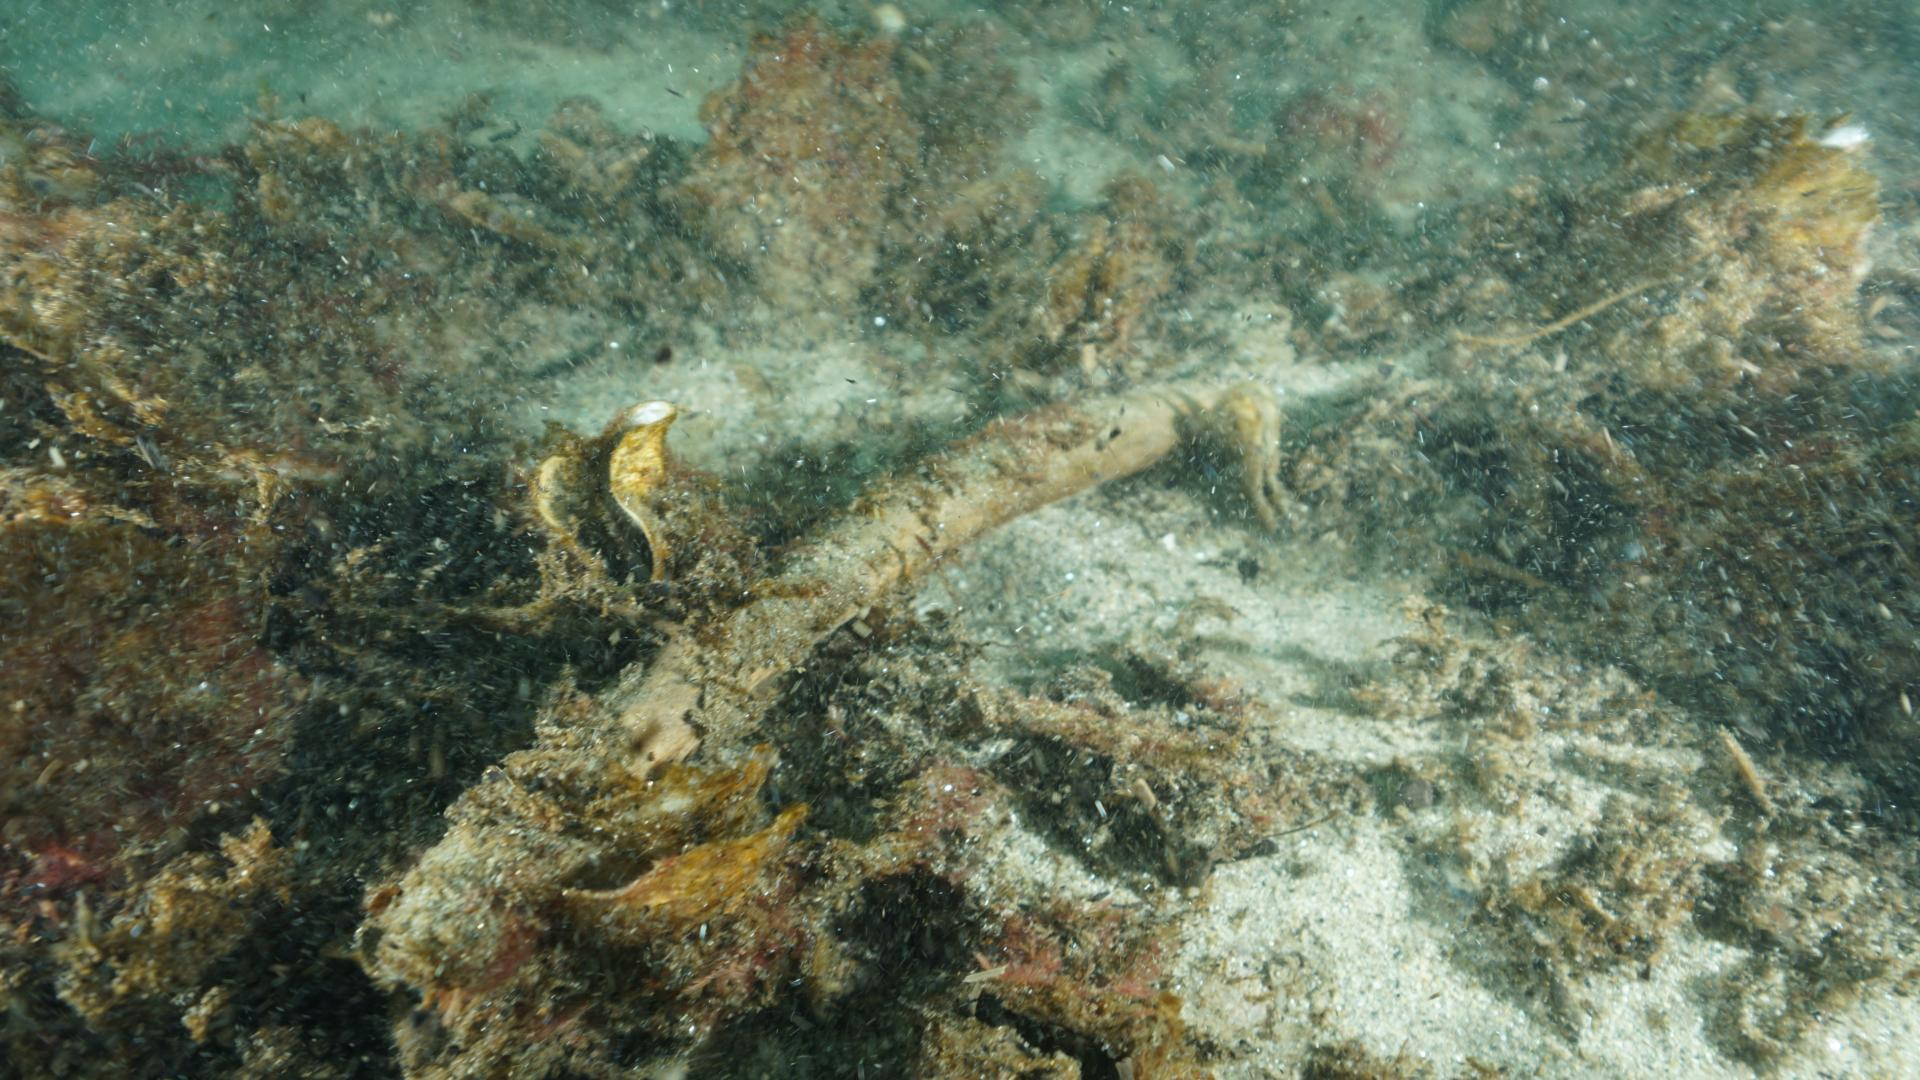wood: (361, 357, 1390, 1009)
